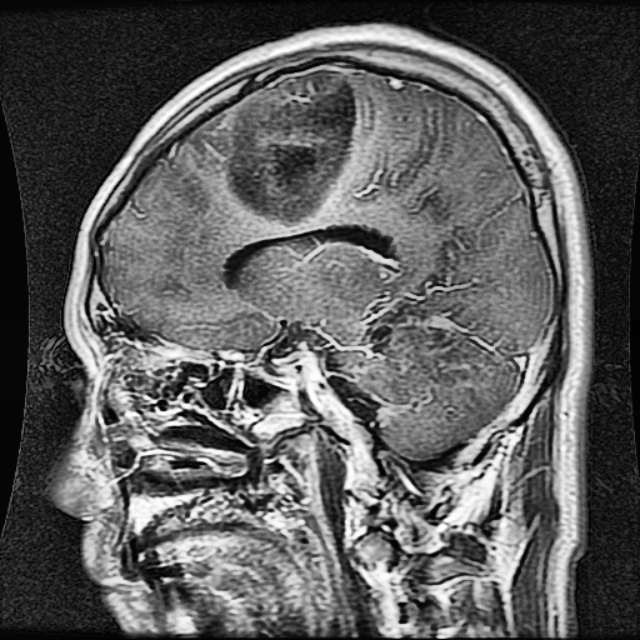Meningioma: (190, 72, 353, 222)
